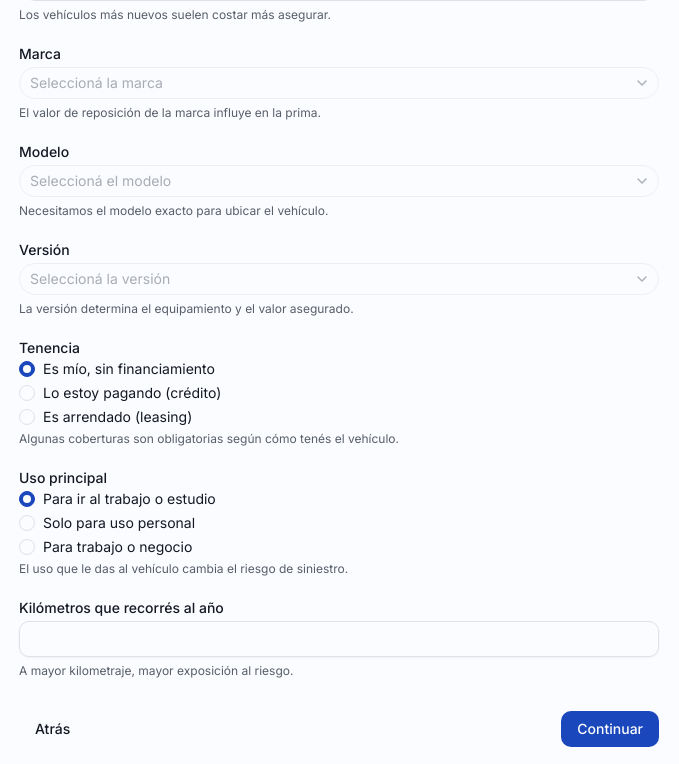
it: VehicleForm › shows validation errors when submitted empty
(page scrolled)
Click the button "Continuar".
click(610, 729)  # box [561,711,659,747]
(page scrolled)
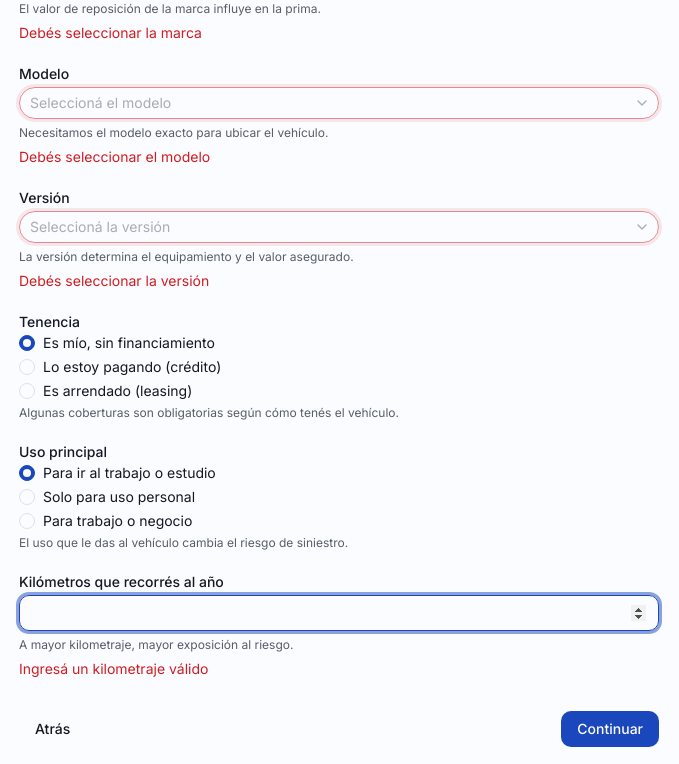
expect the text "Debés seleccionar la marca" is shown: met, box [19,24,202,41]
expect the text "Debés seleccionar el modelo" is shown: met, box [19,148,210,165]
expect the text "Debés seleccionar la versión" is shown: met, box [19,272,209,289]
